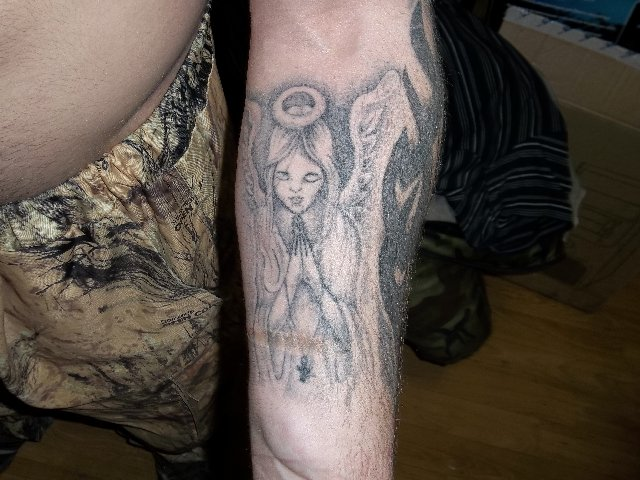tatu1_angel: (251, 70, 410, 412)
